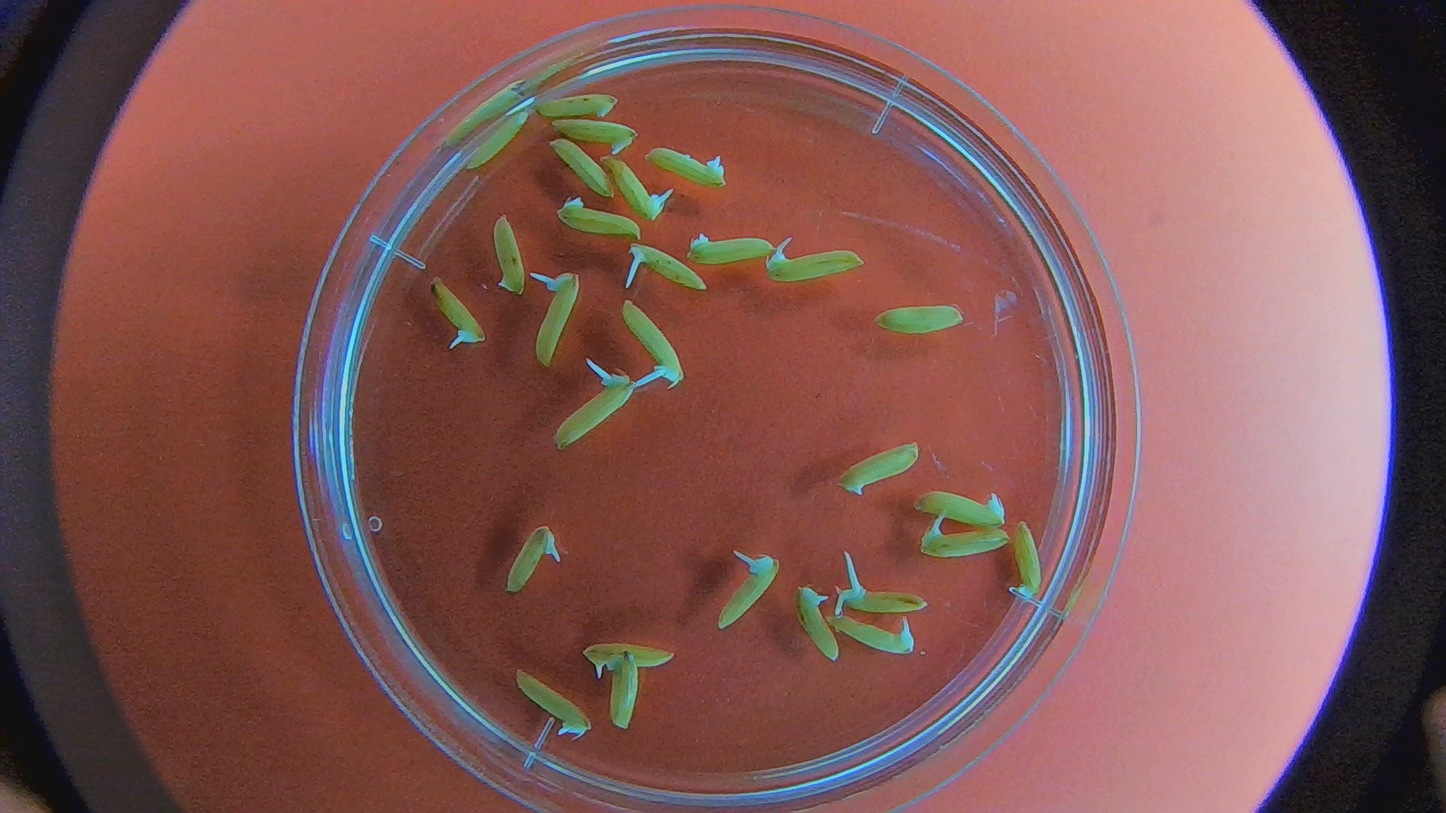no: (459, 105, 535, 180), (545, 134, 619, 200), (838, 440, 920, 498), (548, 194, 642, 240), (543, 115, 639, 156), (874, 301, 966, 340), (913, 486, 999, 527), (685, 229, 773, 267), (491, 211, 528, 298), (1012, 516, 1048, 604), (538, 87, 621, 123), (609, 650, 643, 731)
yes: (553, 373, 633, 449), (529, 269, 581, 371), (511, 666, 589, 734), (624, 301, 684, 388), (716, 556, 778, 634), (596, 151, 666, 218), (429, 274, 487, 350), (626, 242, 709, 295), (503, 522, 561, 595), (766, 244, 865, 283), (578, 640, 679, 676), (642, 146, 727, 188), (825, 615, 912, 656), (792, 587, 835, 665), (920, 523, 1011, 559), (843, 582, 929, 617)
